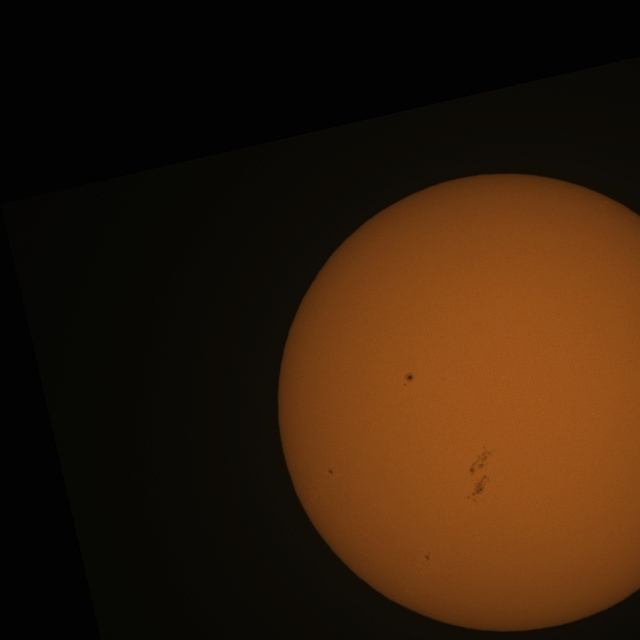sunspot: (468, 446, 494, 483), (466, 470, 490, 506), (402, 372, 414, 386), (424, 551, 431, 561), (328, 468, 334, 476)
